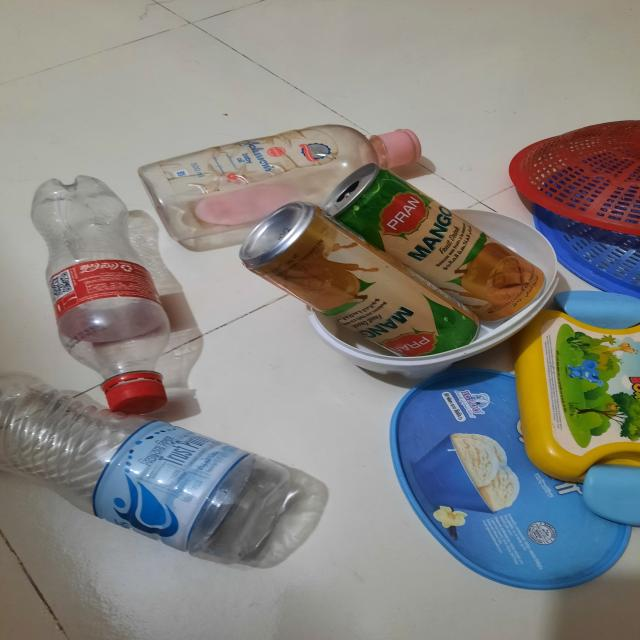Plastics: (0, 154, 245, 576), (403, 349, 640, 548)
can: (258, 176, 564, 352)
